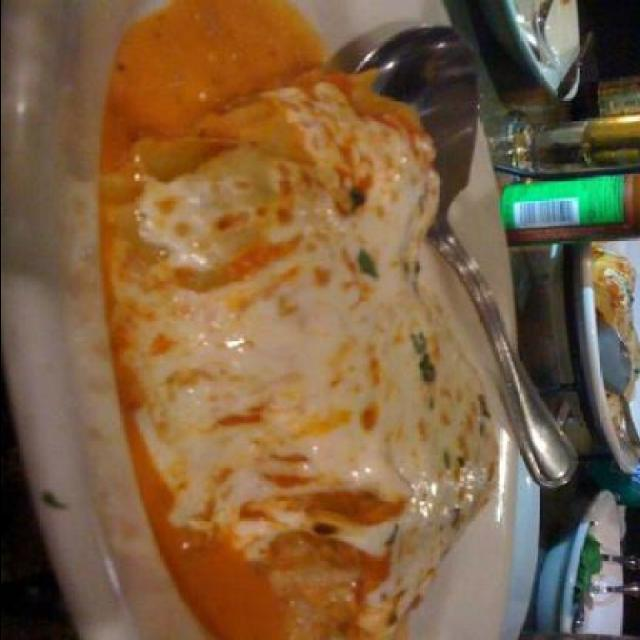Lasagna: (113, 47, 504, 639)
